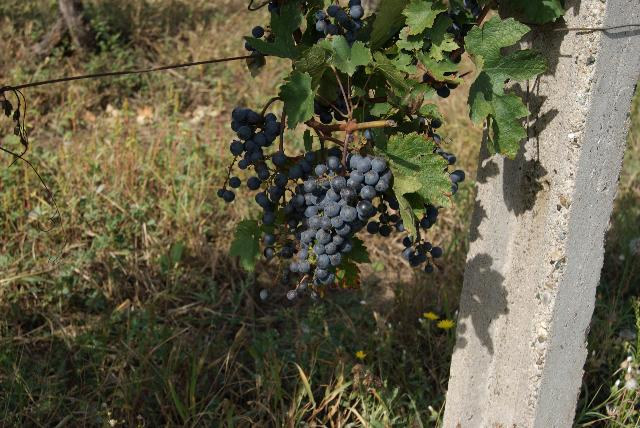grapes: (302, 155, 391, 289), (255, 146, 304, 261), (228, 108, 268, 189), (275, 259, 311, 284), (249, 155, 270, 190), (250, 165, 269, 190), (268, 115, 280, 144), (301, 151, 318, 170), (218, 185, 235, 202)
